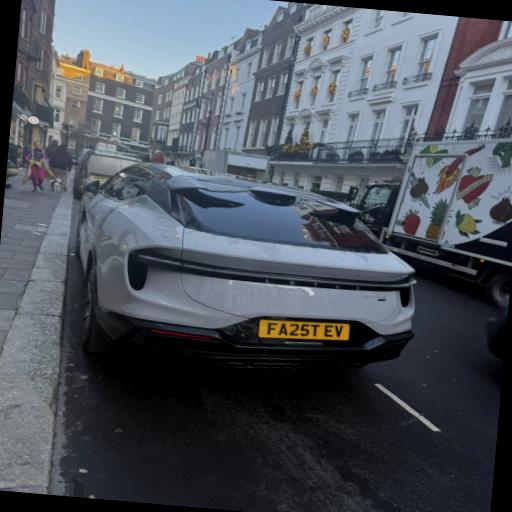numberplates: (258, 320, 349, 340), (90, 175, 107, 181)
